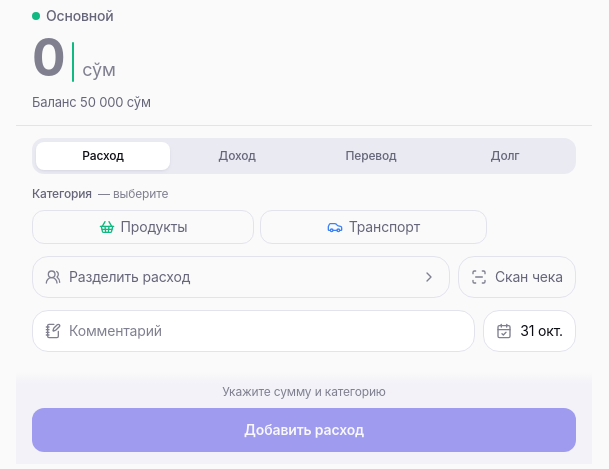
Test case: AddTransactionPage › projected balance › показывает остаток после операции, а не текущий баланс
Replace the text in the field labelled "0 сўм" with "1000" at x=74, y=58, box [32,26,116,89]
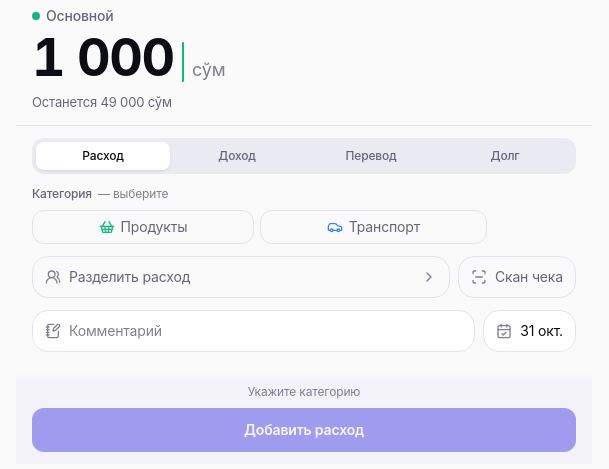
Now the text "Останется" is shown, box [32,94,172,110]
